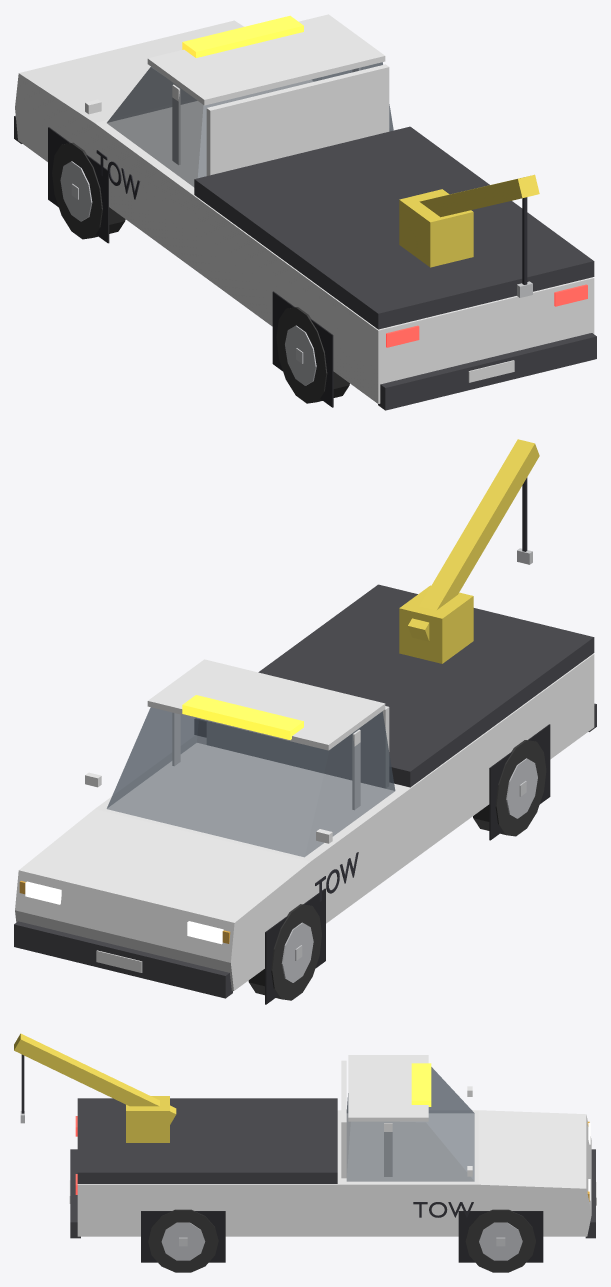
The model's file is towtruck.glb.
3 renders of one model, top to bottom at view 1: azimuth 30°, elevation 25°; view 2: azimuth 150°, elevation 25°; view 3: azimuth 270°, elevation 25°, orthographic. The views are drawn at different scales.
Parts seen in each view (by area): view 1: body, bed, cab_back, roof, cabin, bumper_rear, boom_base, wheel_lb, wheel_lf, boom, lightbar, arch_lb (+7 smaller); view 2: body, bed, cabin, roof, cab_back, boom, bumper_front, wheel_lb, wheel_lf, boom_base, lightbar, arch_lb (+1 smaller); view 3: body, bed, cabin, roof, wheel_rb, wheel_rf, boom, boom_base, arch_rf, arch_rb, lightbar, cab_back (+4 smaller).
Part boxes in pixels (<box>): body: <box>15,20,594,403</box>; bed: <box>194,126,594,329</box>; cab_back: <box>206,64,389,175</box>; roof: <box>147,14,385,105</box>; cabin: <box>107,62,393,186</box>; bumper_rear: <box>378,333,596,410</box>; boom_base: <box>399,189,473,267</box>; wheel_lb: <box>276,307,349,403</box>; wheel_lf: <box>52,142,125,239</box>; boom: <box>419,174,539,217</box>; lightbar: <box>182,15,303,57</box>; arch_lb: <box>272,291,333,407</box>; body: <box>15,654,594,990</box>; bed: <box>194,584,594,787</box>; cabin: <box>107,707,395,857</box>; roof: <box>147,659,385,750</box>; cab_back: <box>207,706,389,788</box>; boom: <box>408,439,539,641</box>; bumper_front: <box>14,921,232,998</box>; wheel_lb: <box>473,740,546,836</box>; wheel_lf: <box>248,904,321,1000</box>; boom_base: <box>399,585,473,663</box>; lightbar: <box>182,695,303,739</box>; arch_lb: <box>489,724,550,840</box>; body: <box>77,1110,591,1236</box>; bed: <box>77,1098,337,1183</box>; cabin: <box>346,1067,474,1181</box>; roof: <box>348,1055,428,1121</box>; wheel_rb: <box>148,1209,218,1272</box>; wheel_rf: <box>465,1209,535,1272</box>; boom: <box>14,1033,176,1124</box>; boom_base: <box>126,1096,169,1142</box>; arch_rf: <box>458,1211,543,1262</box>; arch_rb: <box>141,1211,225,1262</box>; lightbar: <box>411,1063,431,1106</box>; cab_back: <box>341,1060,346,1178</box>.
Size of the model in its own units: 2.26 by 2.48 by 6.61.
